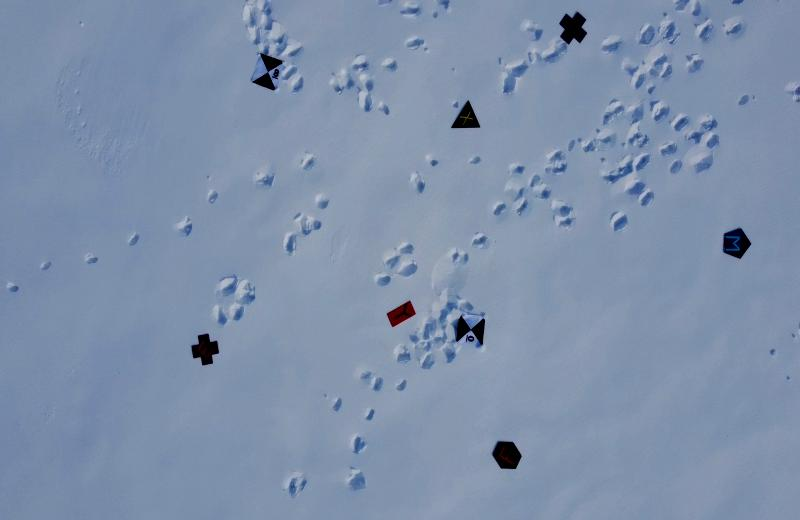Cross: (187, 330, 223, 366), (556, 11, 588, 50)
Hexagon: (488, 436, 525, 474)
Pentagon: (717, 222, 753, 264)
Rectangle: (382, 296, 417, 329)
Triangle: (440, 98, 484, 131)
